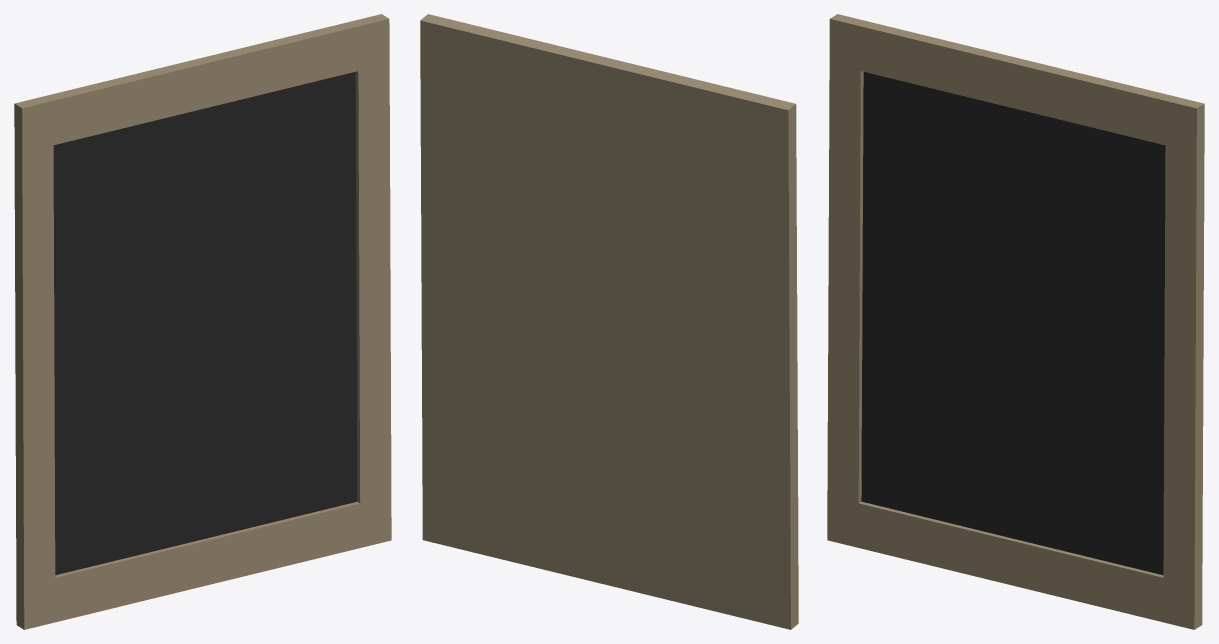
Rendered from pictureFrame_wall.fbx.
The picture shows the model from 3 angles, left to right: view 1: azimuth 30°, elevation 25°; view 2: azimuth 150°, elevation 25°; view 3: azimuth 330°, elevation 25°; orthographic projection.
Visible parts, largest first — view 1: summerStaffFrame; view 2: summerStaffFrame; view 3: summerStaffFrame.
Part boxes in pixels (x1,y1,x2,y2): summerStaffFrame: (14, 14, 391, 629); summerStaffFrame: (420, 14, 798, 629); summerStaffFrame: (827, 14, 1204, 629).
Size of the model in its own units: 0.889 by 1.2 by 0.0425.
